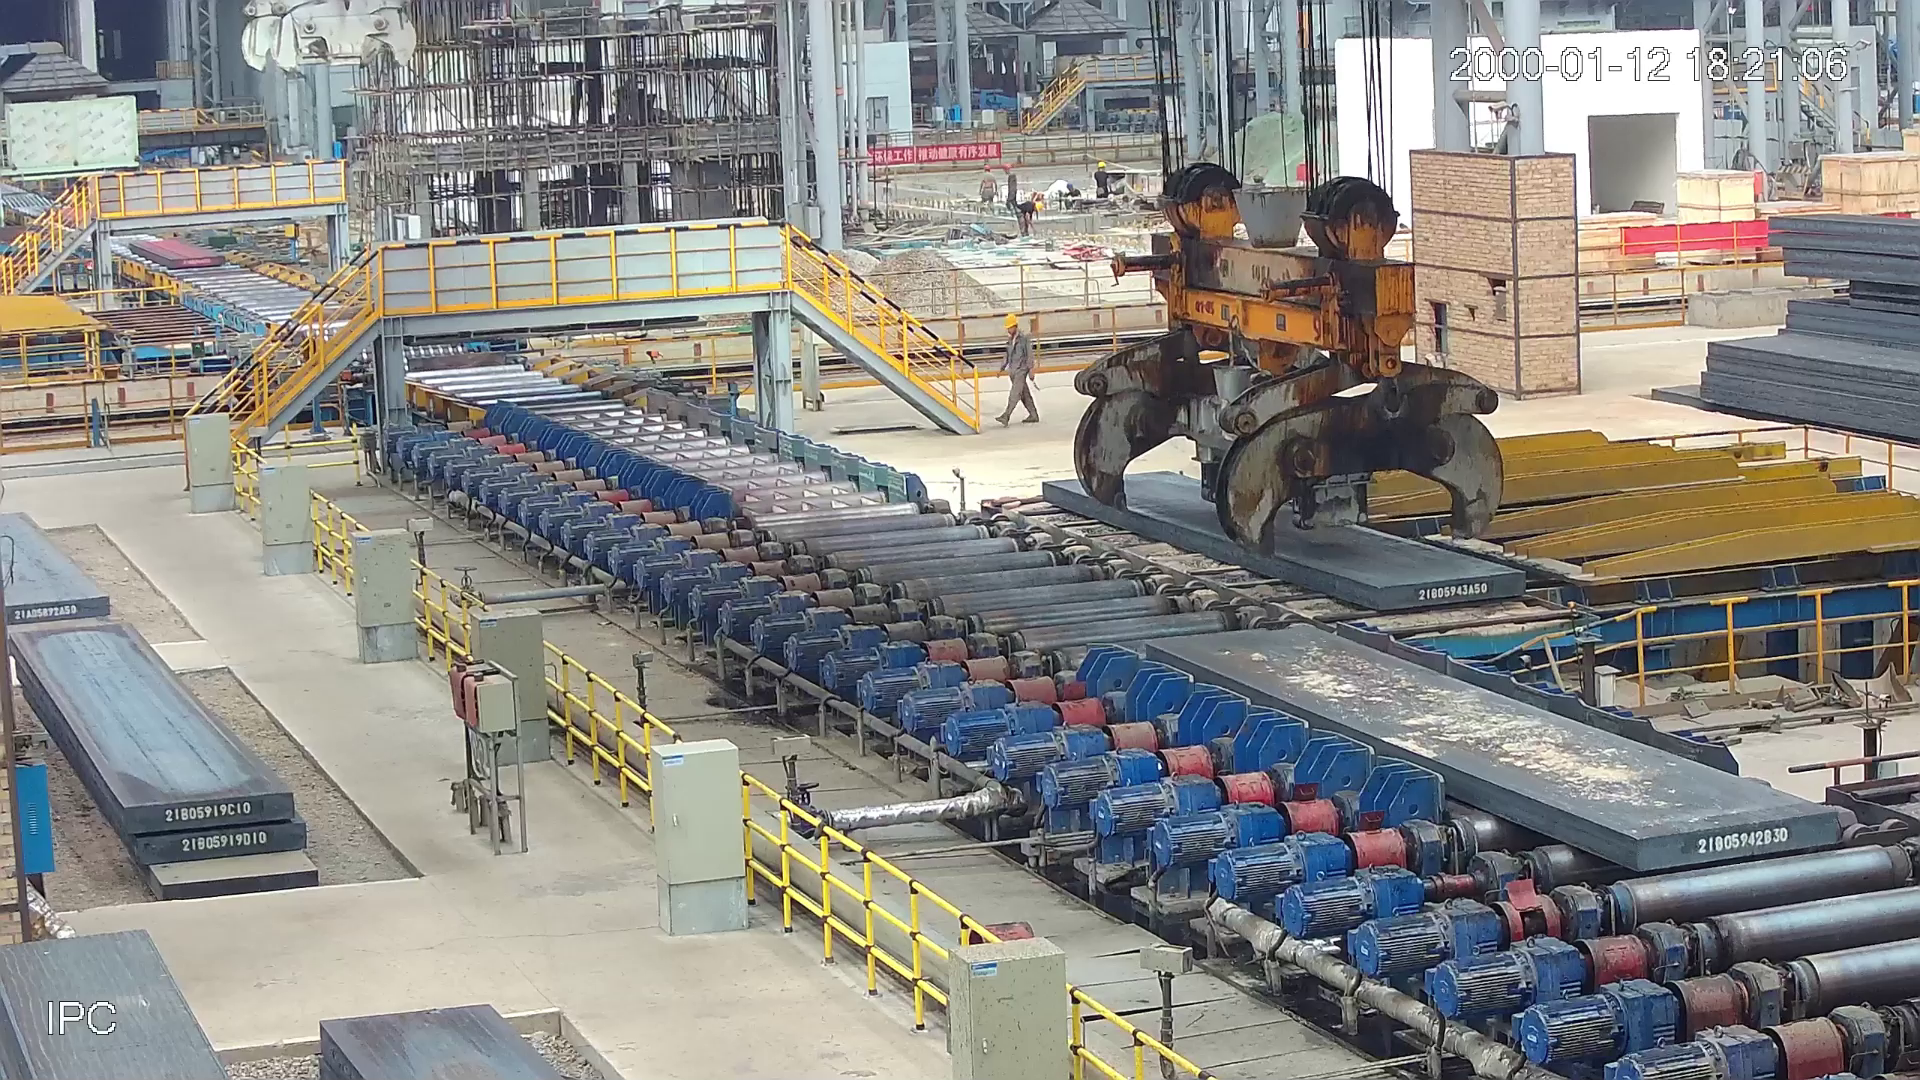craneandslab: (1035, 160, 1532, 615)
slab: (1124, 618, 1847, 880), (127, 236, 232, 273)
